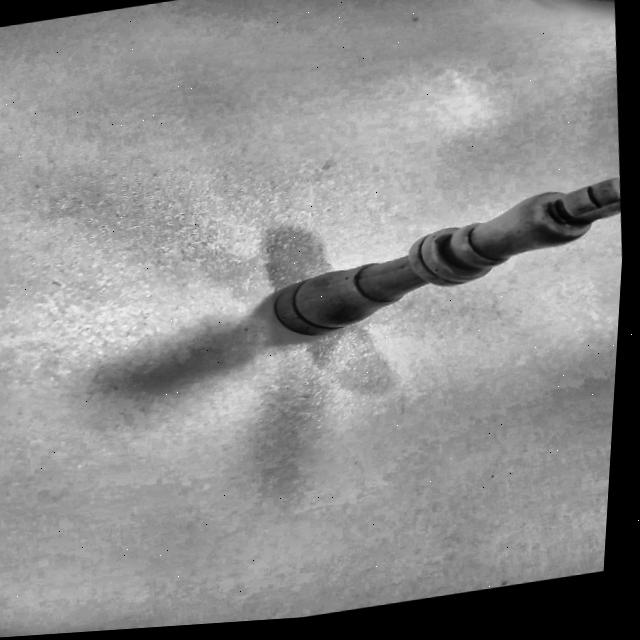white-king: (234, 172, 627, 346)
